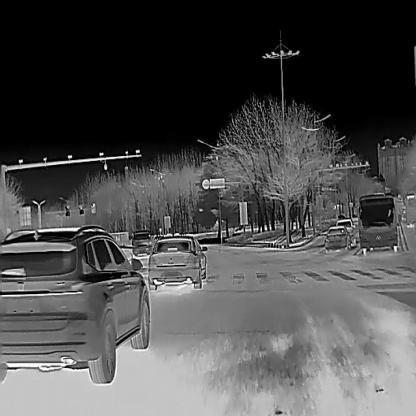car: (0, 223, 150, 382), (147, 233, 207, 289), (357, 191, 398, 253), (323, 223, 351, 251), (131, 229, 152, 255), (335, 218, 356, 244), (404, 191, 415, 228)
